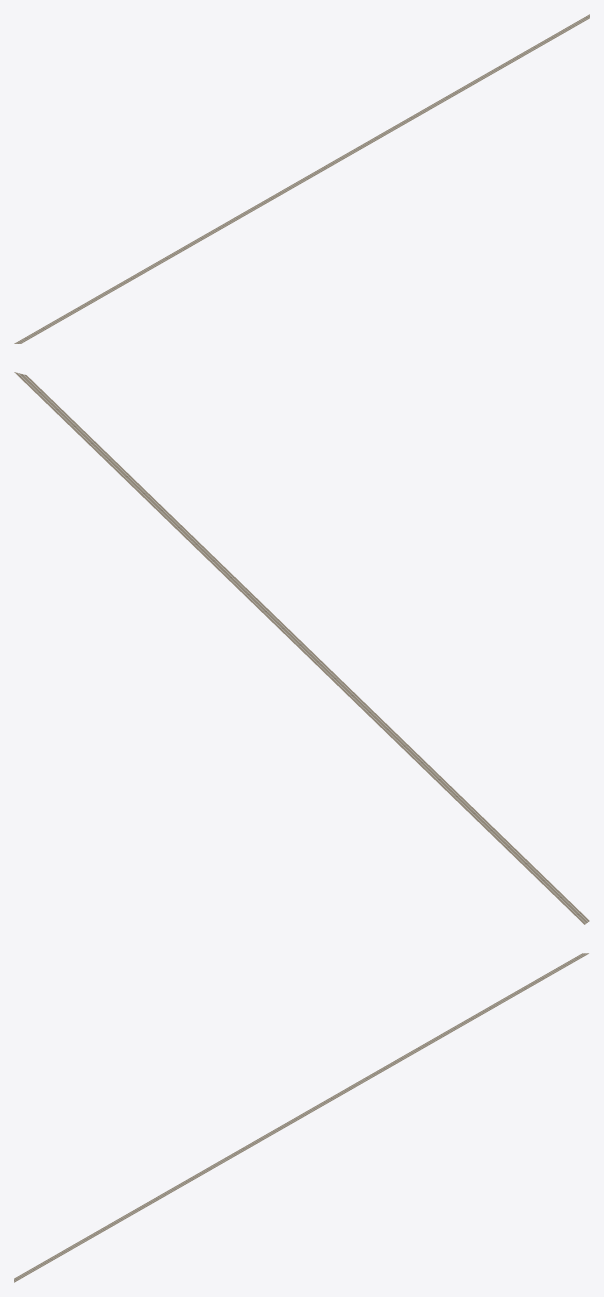
The picture shows the model from 3 angles, top to bottom: view 1: azimuth 90°, elevation 25°; view 2: azimuth 150°, elevation 25°; view 3: azimuth 270°, elevation 25°; orthographic projection. The views are drawn at different scales.
Parts seen in each view (by area): view 1: rail; view 2: rail; view 3: rail.
Part boxes in pixels (box(x1,y1,x2,y2)): rail: box(14, 14, 589, 343); rail: box(14, 372, 589, 924); rail: box(14, 953, 588, 1282).
Size of the model in its own units: 476 by 0.04 by 351.
